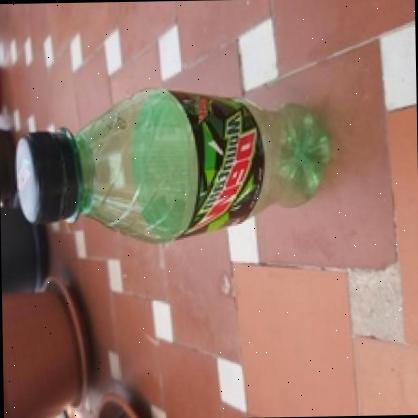bottle: (13, 82, 335, 248)
cap: (14, 126, 84, 221)
label: (170, 88, 266, 241)
